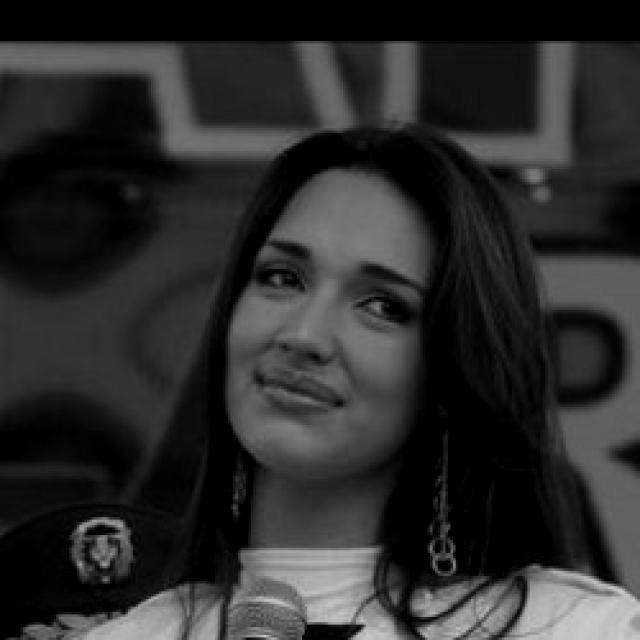real: (220, 144, 444, 494), (238, 246, 408, 329)
